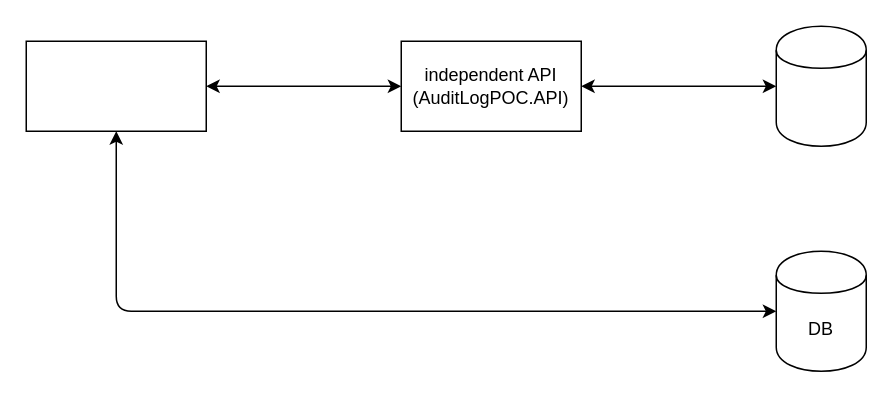
This 893x398 diagram has some shape labels left out. Here are the shapes that lost their labels. From the top down, the centre of each, then its label:
point (115, 85): Web / Fugo (AuditLogPOC.Web)
point (820, 85): Elastic Search
